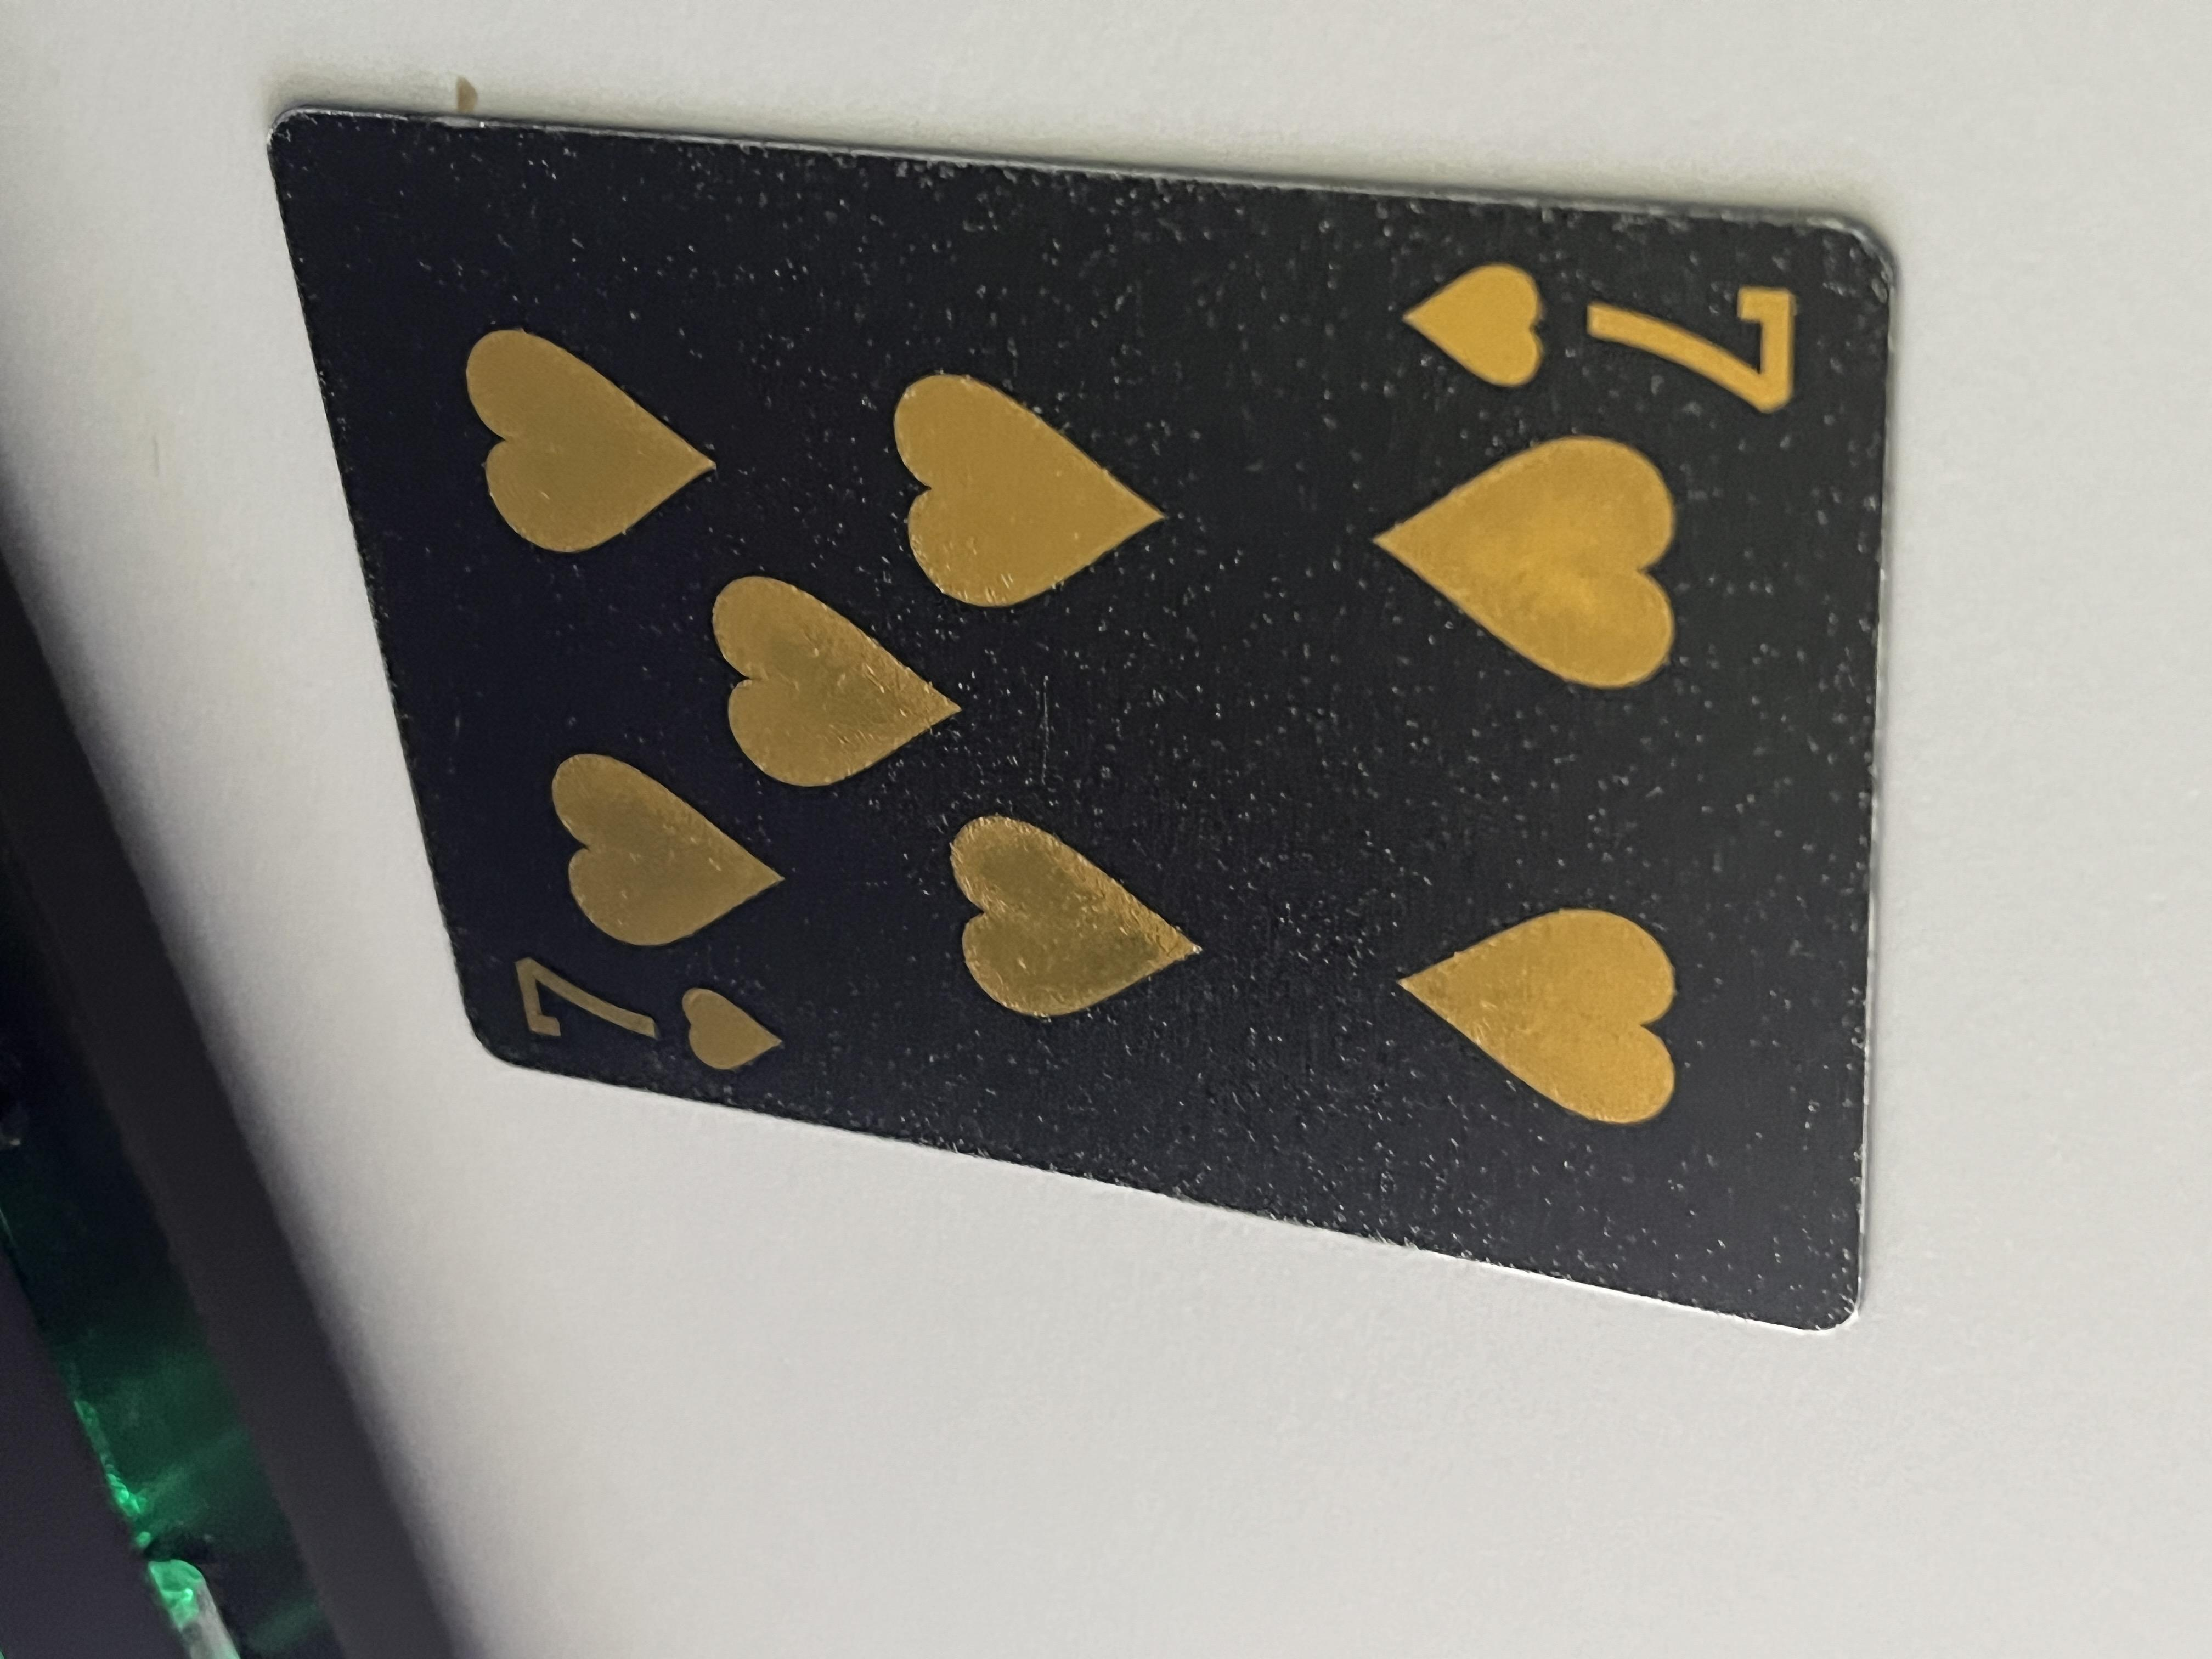7H: (1648, 1049, 1867, 1364), (773, 382, 953, 598)
